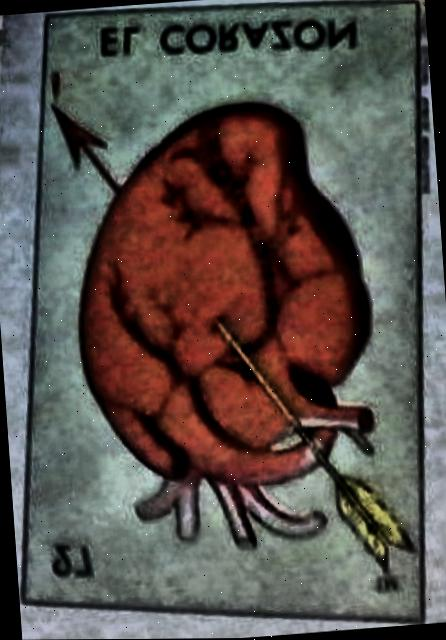El Corazon: (27, 1, 430, 621)
